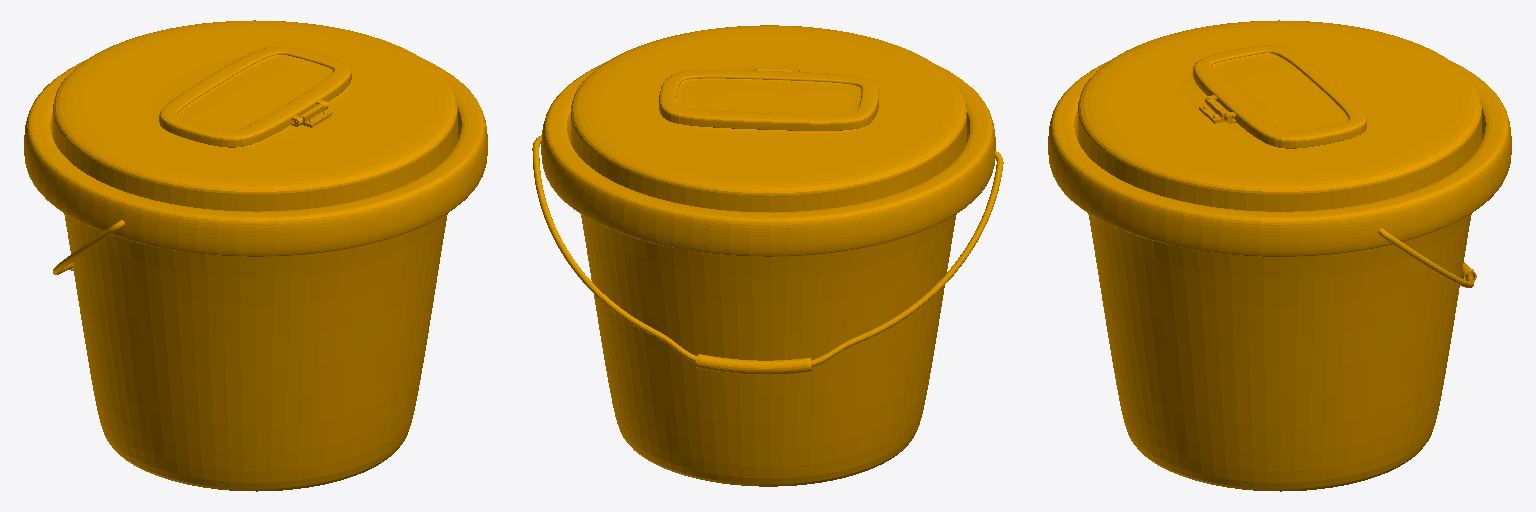
robot.urdf — bucket:
<robot name="bucket">
  <link name="bucket">
    <inertial>
      <origin xyz="0 0 0.0145"/>
      <mass value="0.1" />
      <inertia  ixx="0.0001" ixy="0.0"  ixz="0.0"  iyy="0.0001"  iyz="0.0"  izz="0.0001" />
    </inertial>
    <visual>
      <origin xyz="0 0 0.0145"/>
      <geometry>        
     <mesh filename="bucket.dae" scale="1 1 1"/>
    </geometry>
    </visual>
    <collision>
      <origin xyz="0 0 0.0145"/>
      <geometry>
        <box size="0.029 0.029 0.029"/>
      </geometry>
    </collision>
  </link>
  <gazebo reference="bucket">
    <material>Gazebo/Blue</material>
  </gazebo>
</robot>

--- Facts derived from the render (not from the file) ---
3 views of the same robot in one strip: view 1: azimuth 30°, elevation 25°; view 2: azimuth 150°, elevation 25°; view 3: azimuth 270°, elevation 25° (orthographic).
Robot: bucket — 1 links, 0 joints (none); root link bucket; default pose: all joints at 0.
Visible links, largest first — view 1: bucket; view 2: bucket; view 3: bucket.
Boxes of the visible links, x1,y1,x2,y2 form: bucket: [24, 20, 487, 491]; bucket: [532, 25, 1003, 486]; bucket: [1048, 20, 1511, 491].
Bounding box of the posed robot: 0.3048 × 0.3048 × 0.2451 m (x, y, z).
1 mesh visuals loaded from 1 distinct referenced files (1 Collada DAE).